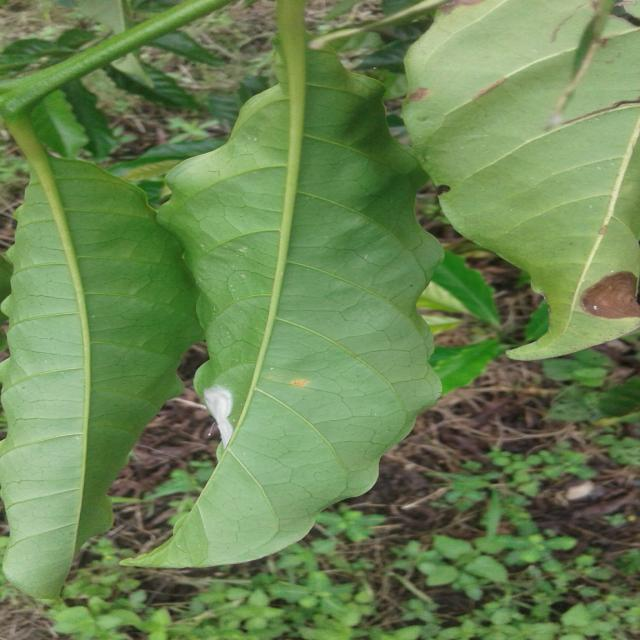Enfermedad-Roya: (144, 54, 444, 570)
